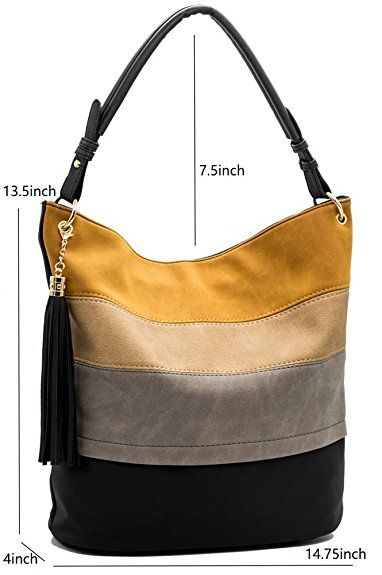cuero: (39, 5, 353, 555)
